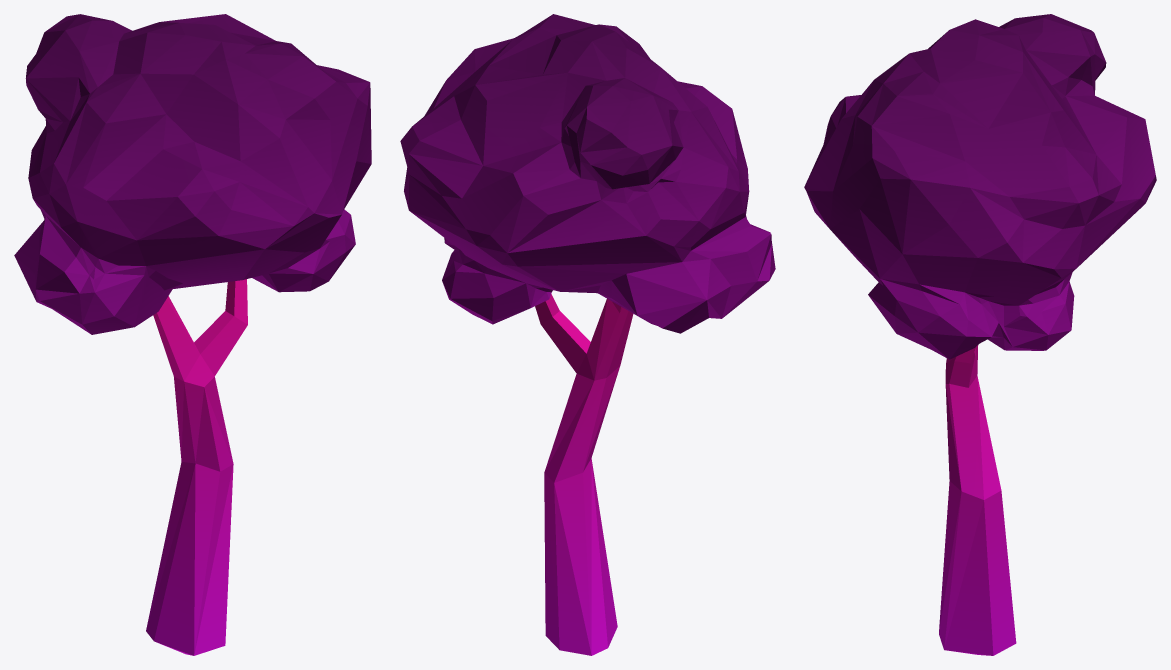
The model's file is SM_Generic_Tree_01.fbx.
3 renders of one model, left to right at view 1: azimuth 30°, elevation 25°; view 2: azimuth 150°, elevation 25°; view 3: azimuth 270°, elevation 25°, orthographic. The views are drawn at different scales.
Visible parts, largest first — view 1: SM_Generic_Tree_01; view 2: SM_Generic_Tree_01; view 3: SM_Generic_Tree_01.
Part boxes in pixels (x1,y1,x2,y2): SM_Generic_Tree_01: (14,14,371,655); SM_Generic_Tree_01: (400,14,775,655); SM_Generic_Tree_01: (804,14,1156,655).
Bounding box in the file's own units: 181 × 330 × 170.
